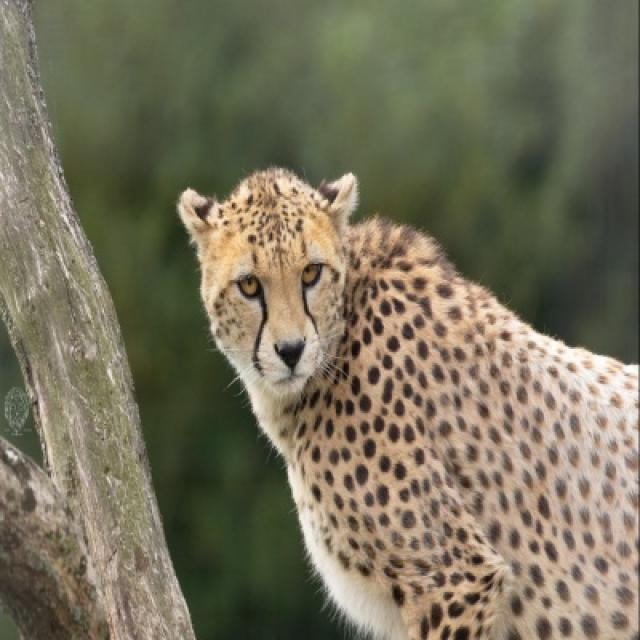Cheetah: (174, 166, 638, 638)
